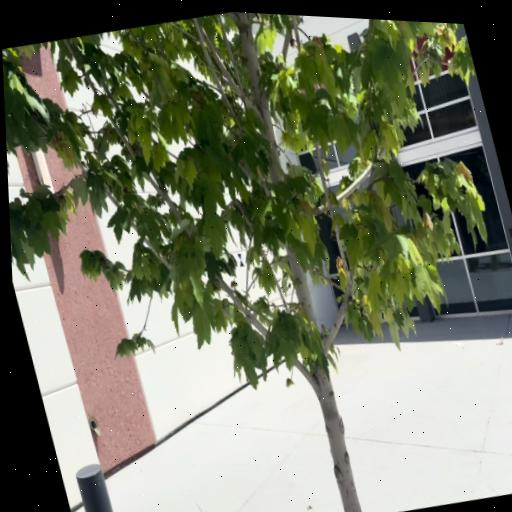target7: (237, 253, 244, 266)
